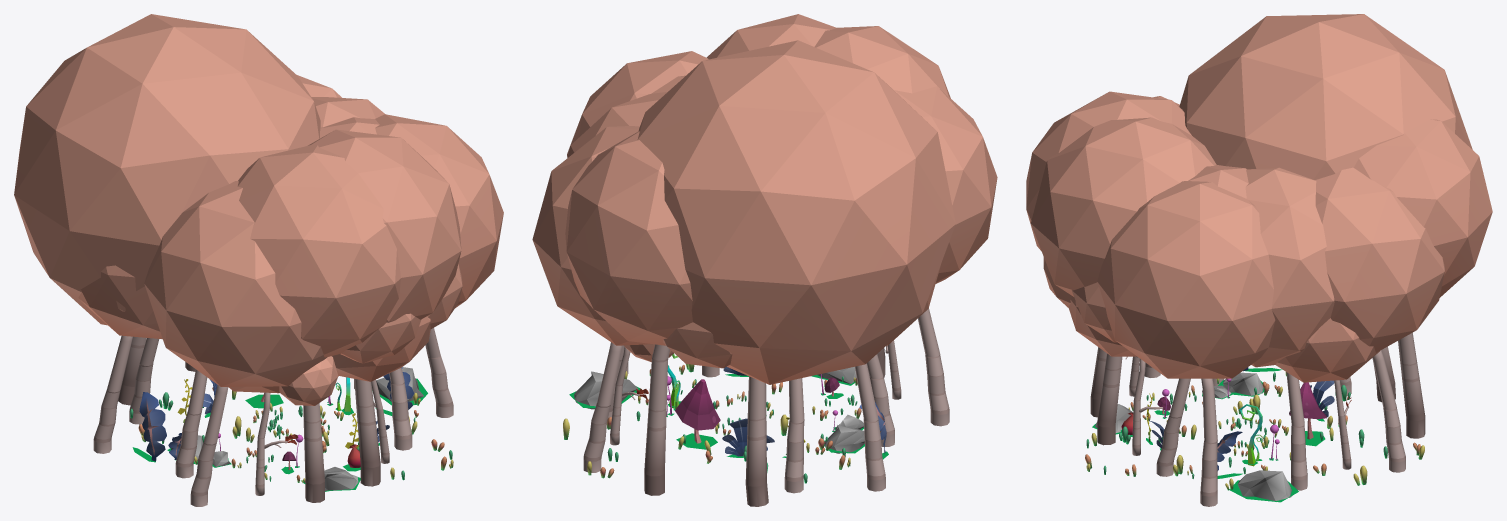
The model's file is mdl_env_1_forest_intro_v03.fbx.
The picture shows the model from 3 angles, left to right: view 1: azimuth 30°, elevation 25°; view 2: azimuth 150°, elevation 25°; view 3: azimuth 270°, elevation 25°; orthographic projection. The views are drawn at different scales.
Visible parts, largest first — view 1: forestIntro; view 2: forestIntro; view 3: forestIntro.
Part boxes in pixels (left/top/right/bottom): forestIntro: left=14, top=14, right=503, bottom=506; forestIntro: left=532, top=14, right=997, bottom=506; forestIntro: left=1026, top=14, right=1492, bottom=506.
Size of the model in its own units: 23.76 by 23.23 by 25.71.
